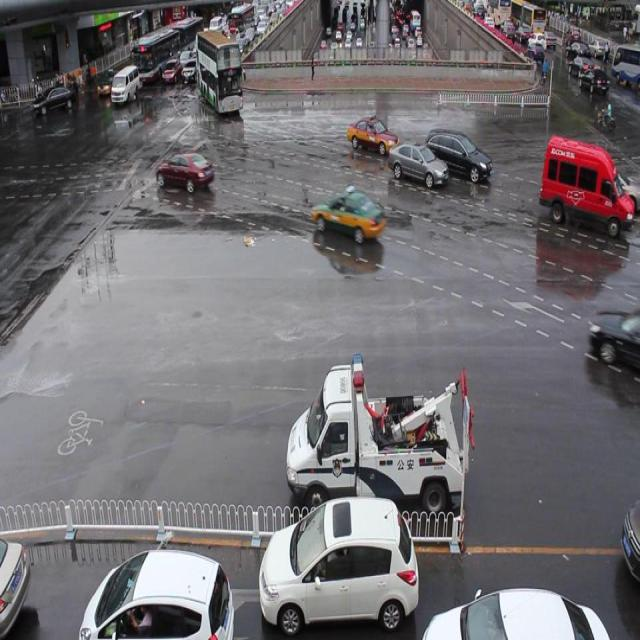bus: (286, 354, 472, 522)
car: (259, 496, 417, 630), (84, 546, 234, 640), (422, 585, 610, 640), (571, 160, 640, 220), (312, 188, 384, 245), (424, 126, 491, 184), (586, 303, 640, 368), (1, 532, 30, 640), (387, 142, 446, 190), (156, 151, 214, 196), (346, 118, 398, 156), (619, 498, 640, 582)
truck: (538, 134, 632, 236)
van: (195, 29, 243, 114)
